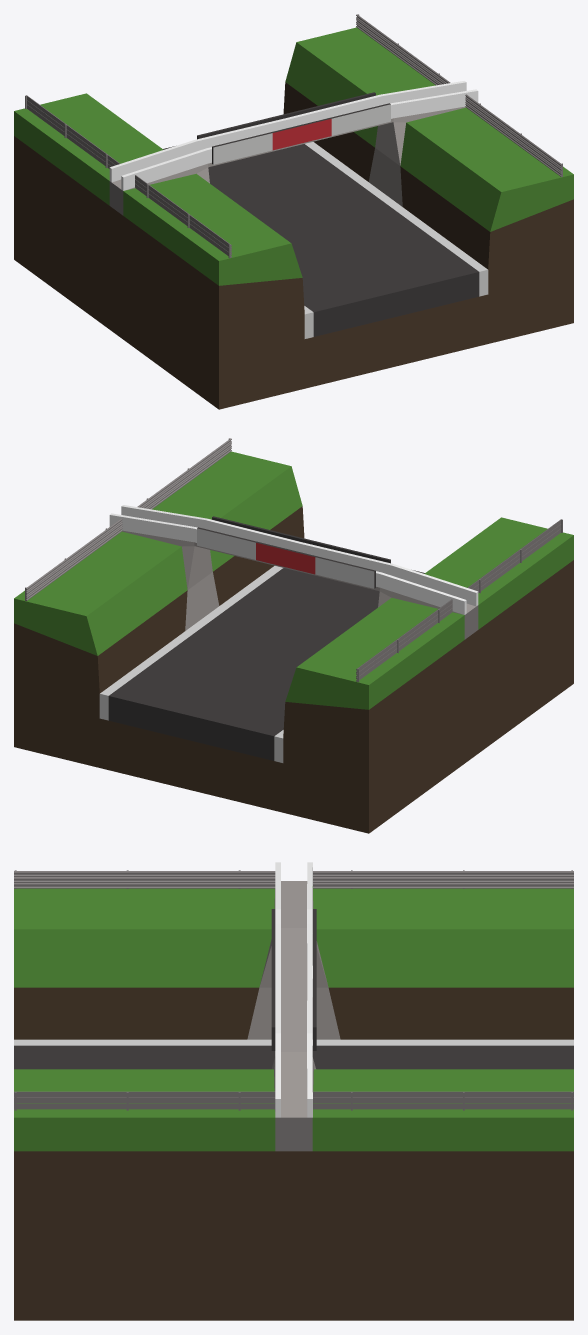
The model's file is tiles_tile-race-track-cliff-overpass.fbx.
The picture shows the model from 3 angles, top to bottom: view 1: azimuth 30°, elevation 25°; view 2: azimuth 150°, elevation 25°; view 3: azimuth 270°, elevation 25°; orthographic projection. The views are drawn at different scales.
Visible parts, largest first — view 1: tiles_tile_race_track_cliff_overpass; view 2: tiles_tile_race_track_cliff_overpass; view 3: tiles_tile_race_track_cliff_overpass.
Part boxes in pixels (x1,y1,x2,y2): tiles_tile_race_track_cliff_overpass: (14, 14, 573, 409); tiles_tile_race_track_cliff_overpass: (14, 438, 573, 833); tiles_tile_race_track_cliff_overpass: (14, 862, 573, 1320).
Bounding box in the file's own units: 200 × 92.31 × 200.
